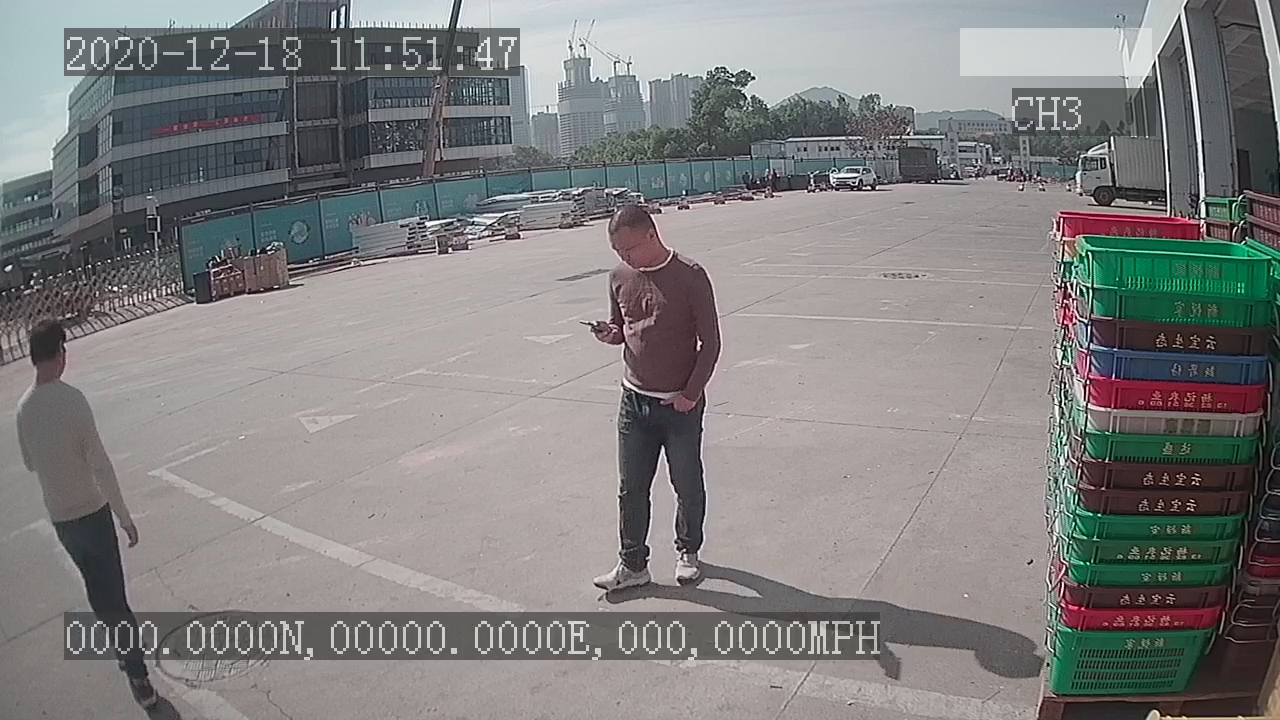person: (574, 195, 726, 602)
